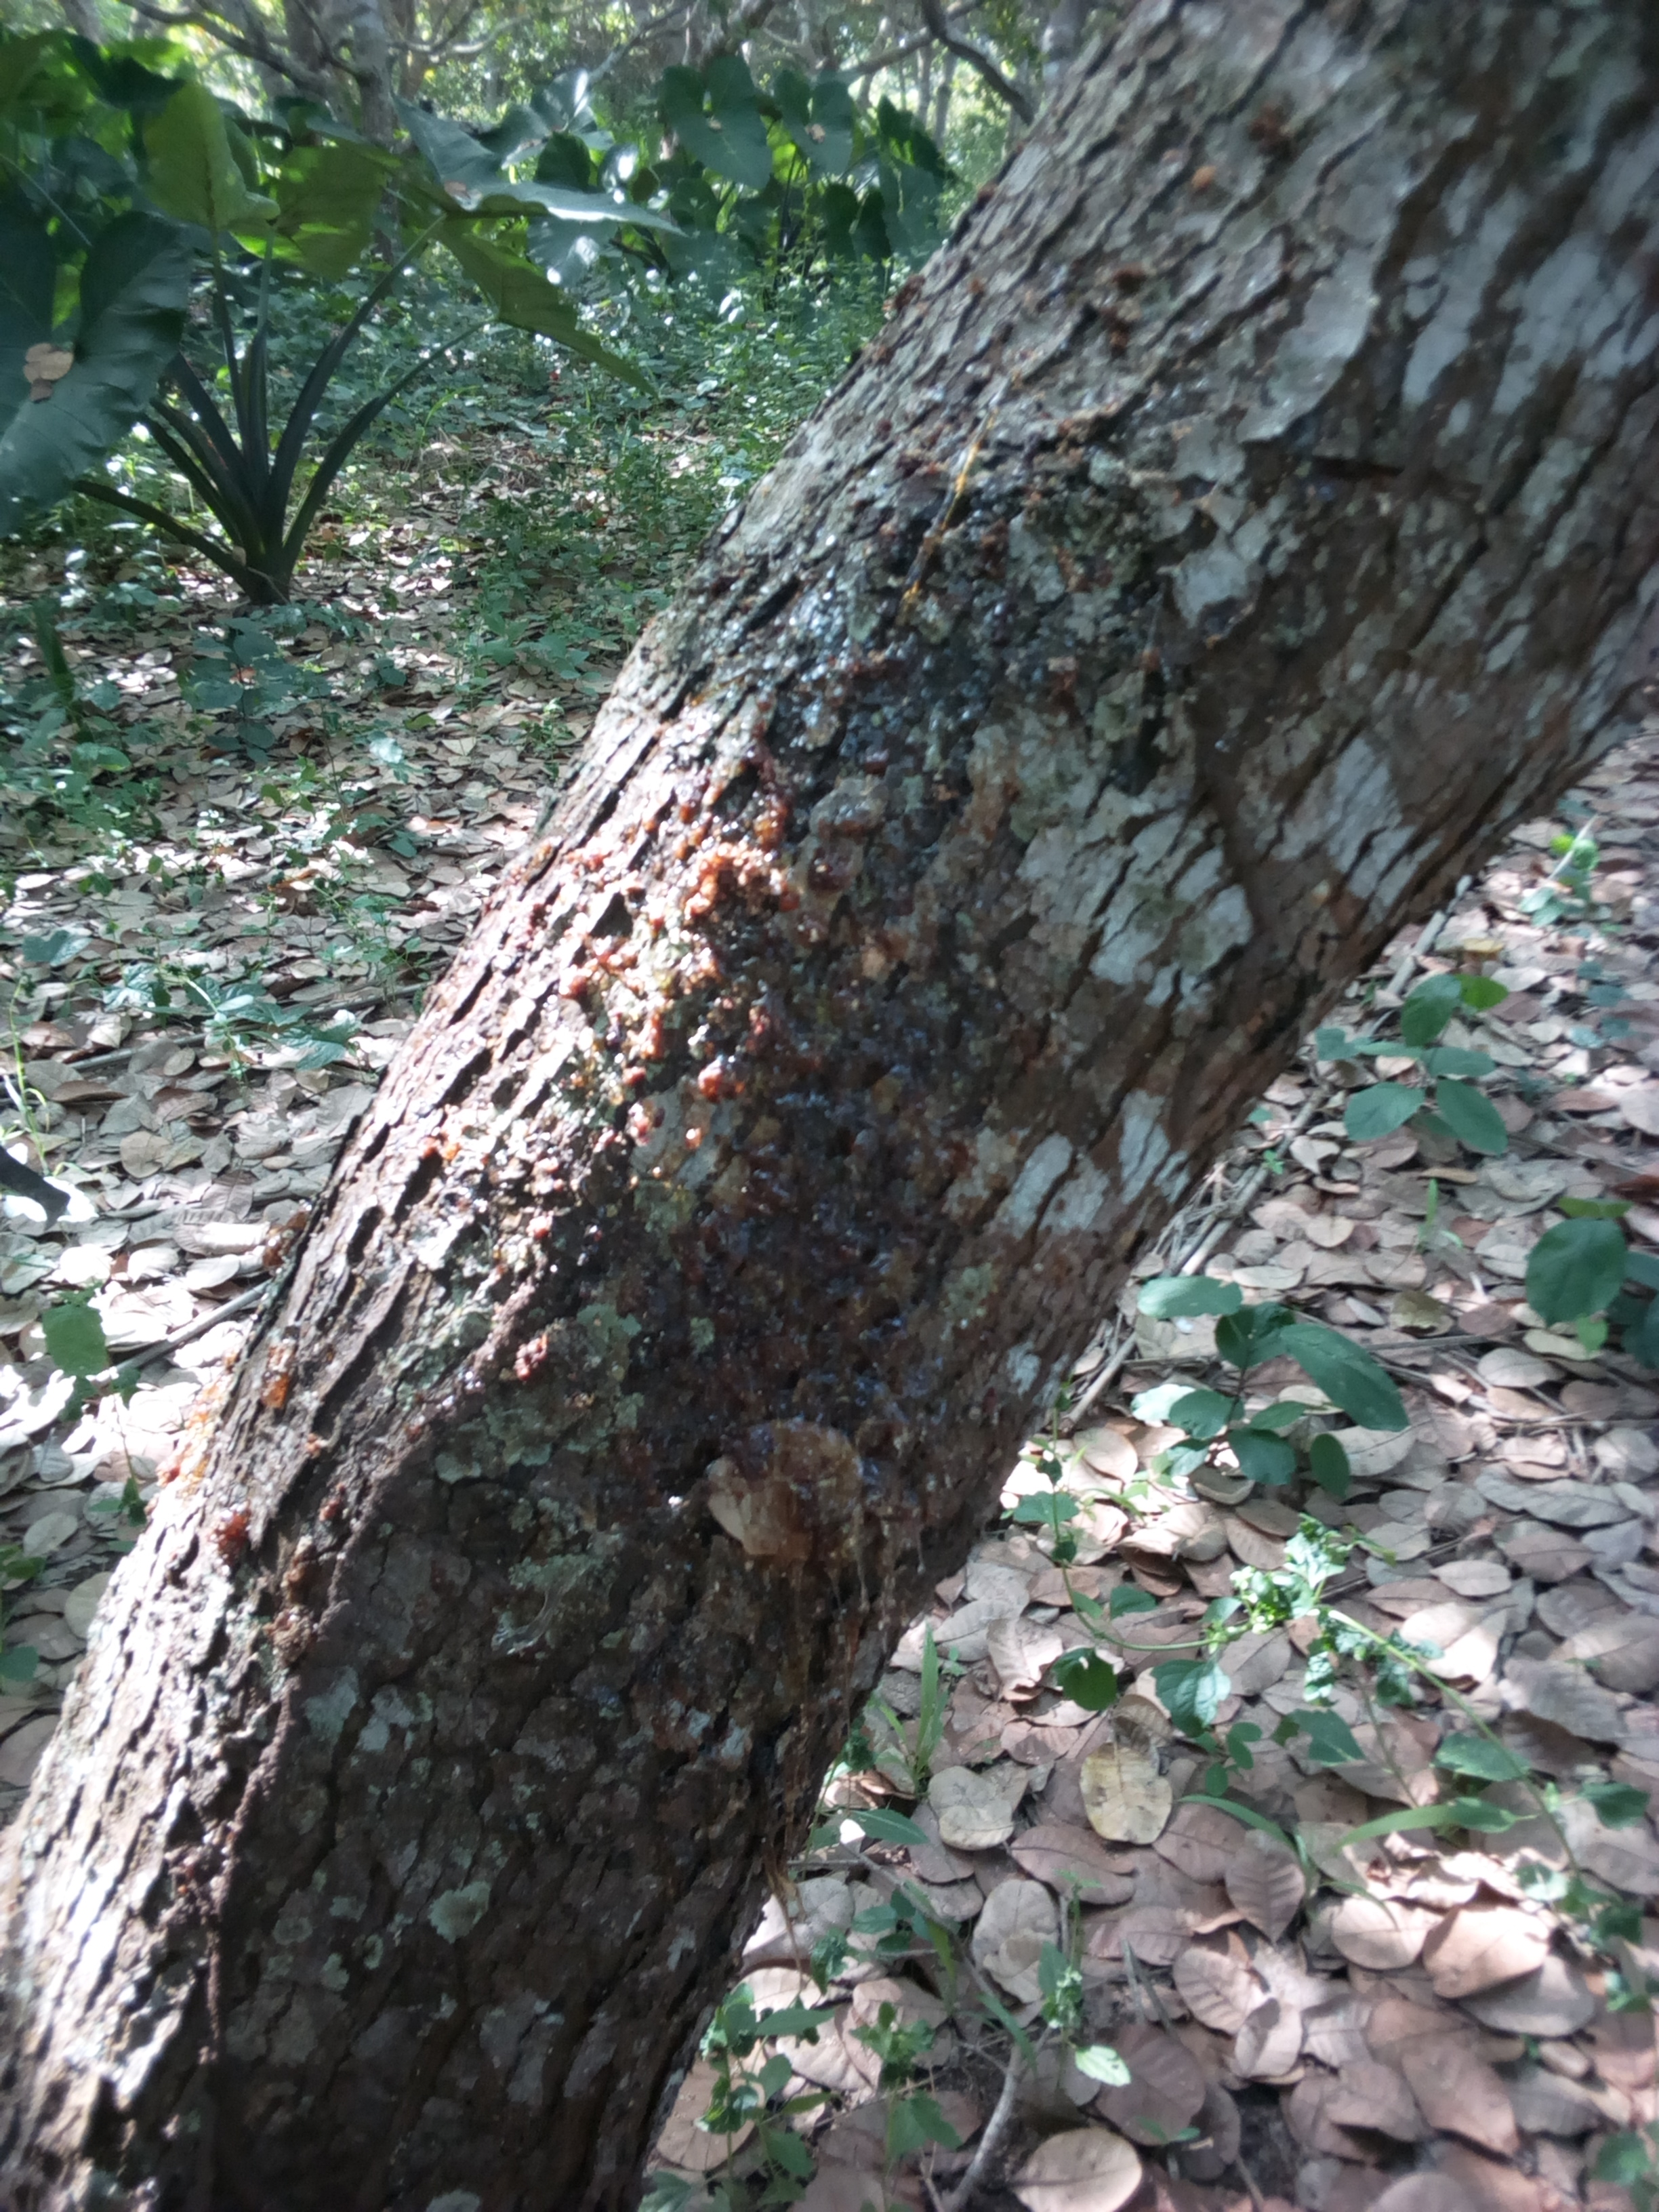Gommose: (450, 408, 1159, 1848)
